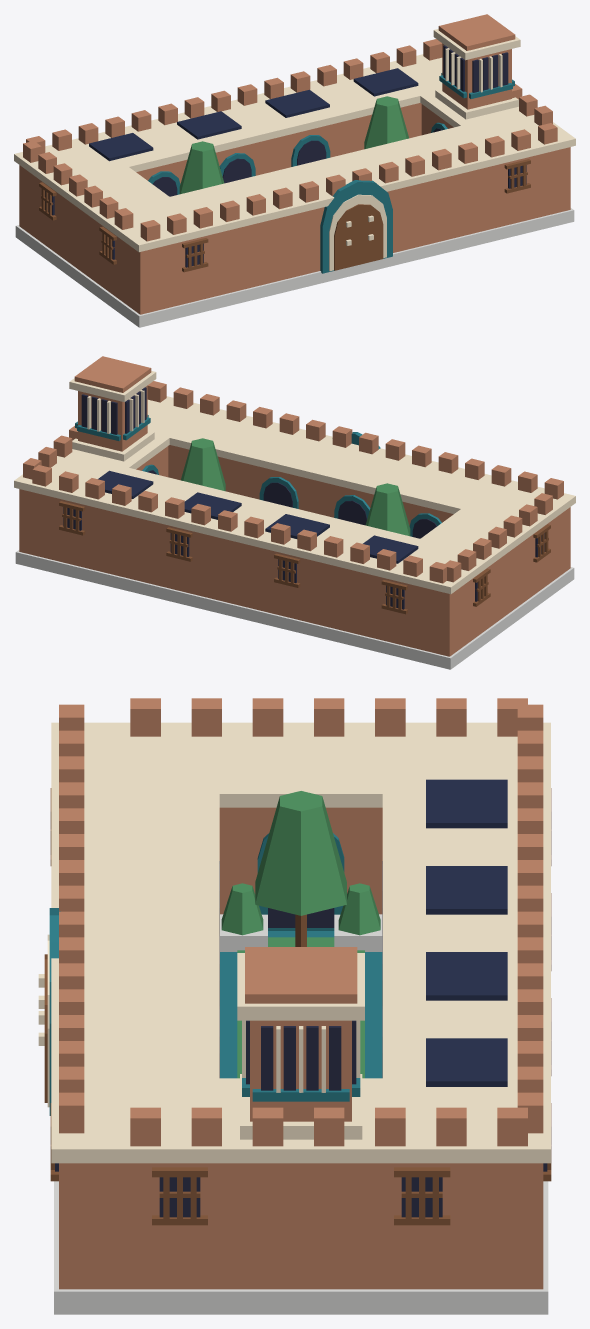
File: house-2x1-1f-riad-a-solar.glb
3 renders of one model, top to bottom at view 1: azimuth 30°, elevation 25°; view 2: azimuth 150°, elevation 25°; view 3: azimuth 270°, elevation 25°, orthographic. The views are drawn at different scales.
Visible parts, largest first — view 1: house-2x1-1f-riad-a-solar; view 2: house-2x1-1f-riad-a-solar; view 3: house-2x1-1f-riad-a-solar.
Part boxes in pixels (x1,y1,x2,y2): house-2x1-1f-riad-a-solar: (14, 14, 575, 327); house-2x1-1f-riad-a-solar: (14, 356, 575, 669); house-2x1-1f-riad-a-solar: (38, 698, 551, 1314).
Size of the model in its own units: 1.98 by 0.67 by 1.01.
Materials: 1 (1 with a texture image).
